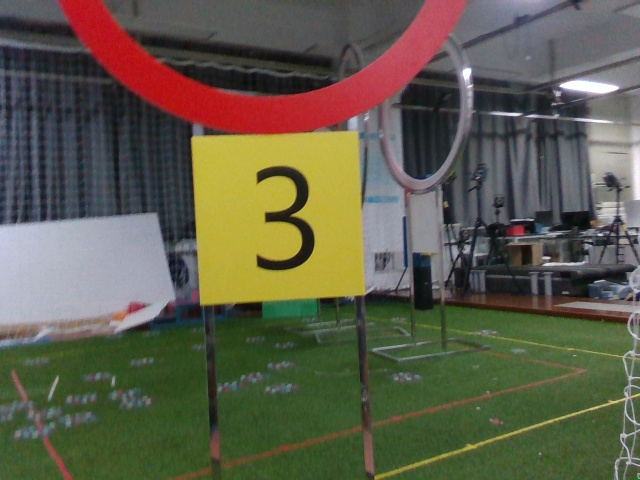target: (187, 133, 367, 296)
